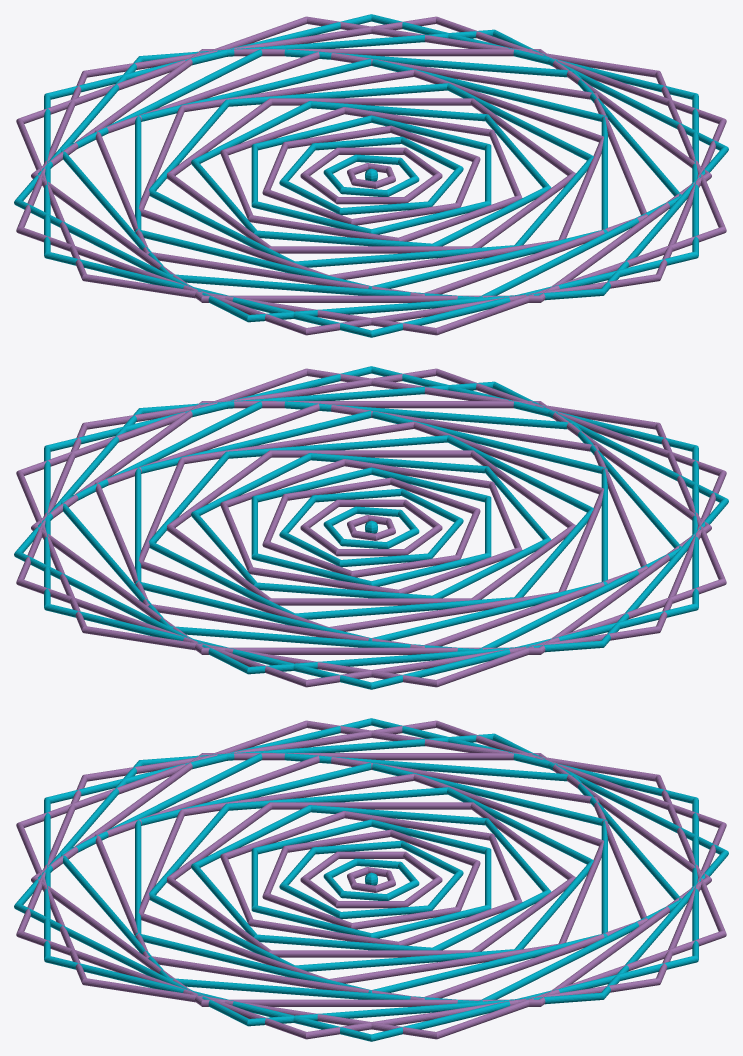
File: mandala.glb
3 views of the same model, one above another, from view 1: azimuth 30°, elevation 25°; view 2: azimuth 150°, elevation 25°; view 3: azimuth 270°, elevation 25° (orthographic).
Visible parts, largest first — view 1: Mesh_Mesh_head_geo.001_lambert2SG.001; view 2: Mesh_Mesh_head_geo.001_lambert2SG.001; view 3: Mesh_Mesh_head_geo.001_lambert2SG.001.
Part boxes in pixels (<box>): Mesh_Mesh_head_geo.001_lambert2SG.001: <box>14,14,728,337</box>; Mesh_Mesh_head_geo.001_lambert2SG.001: <box>14,366,728,689</box>; Mesh_Mesh_head_geo.001_lambert2SG.001: <box>14,718,728,1041</box>.
Size of the model in its own units: 202 by 3.8 by 191.
